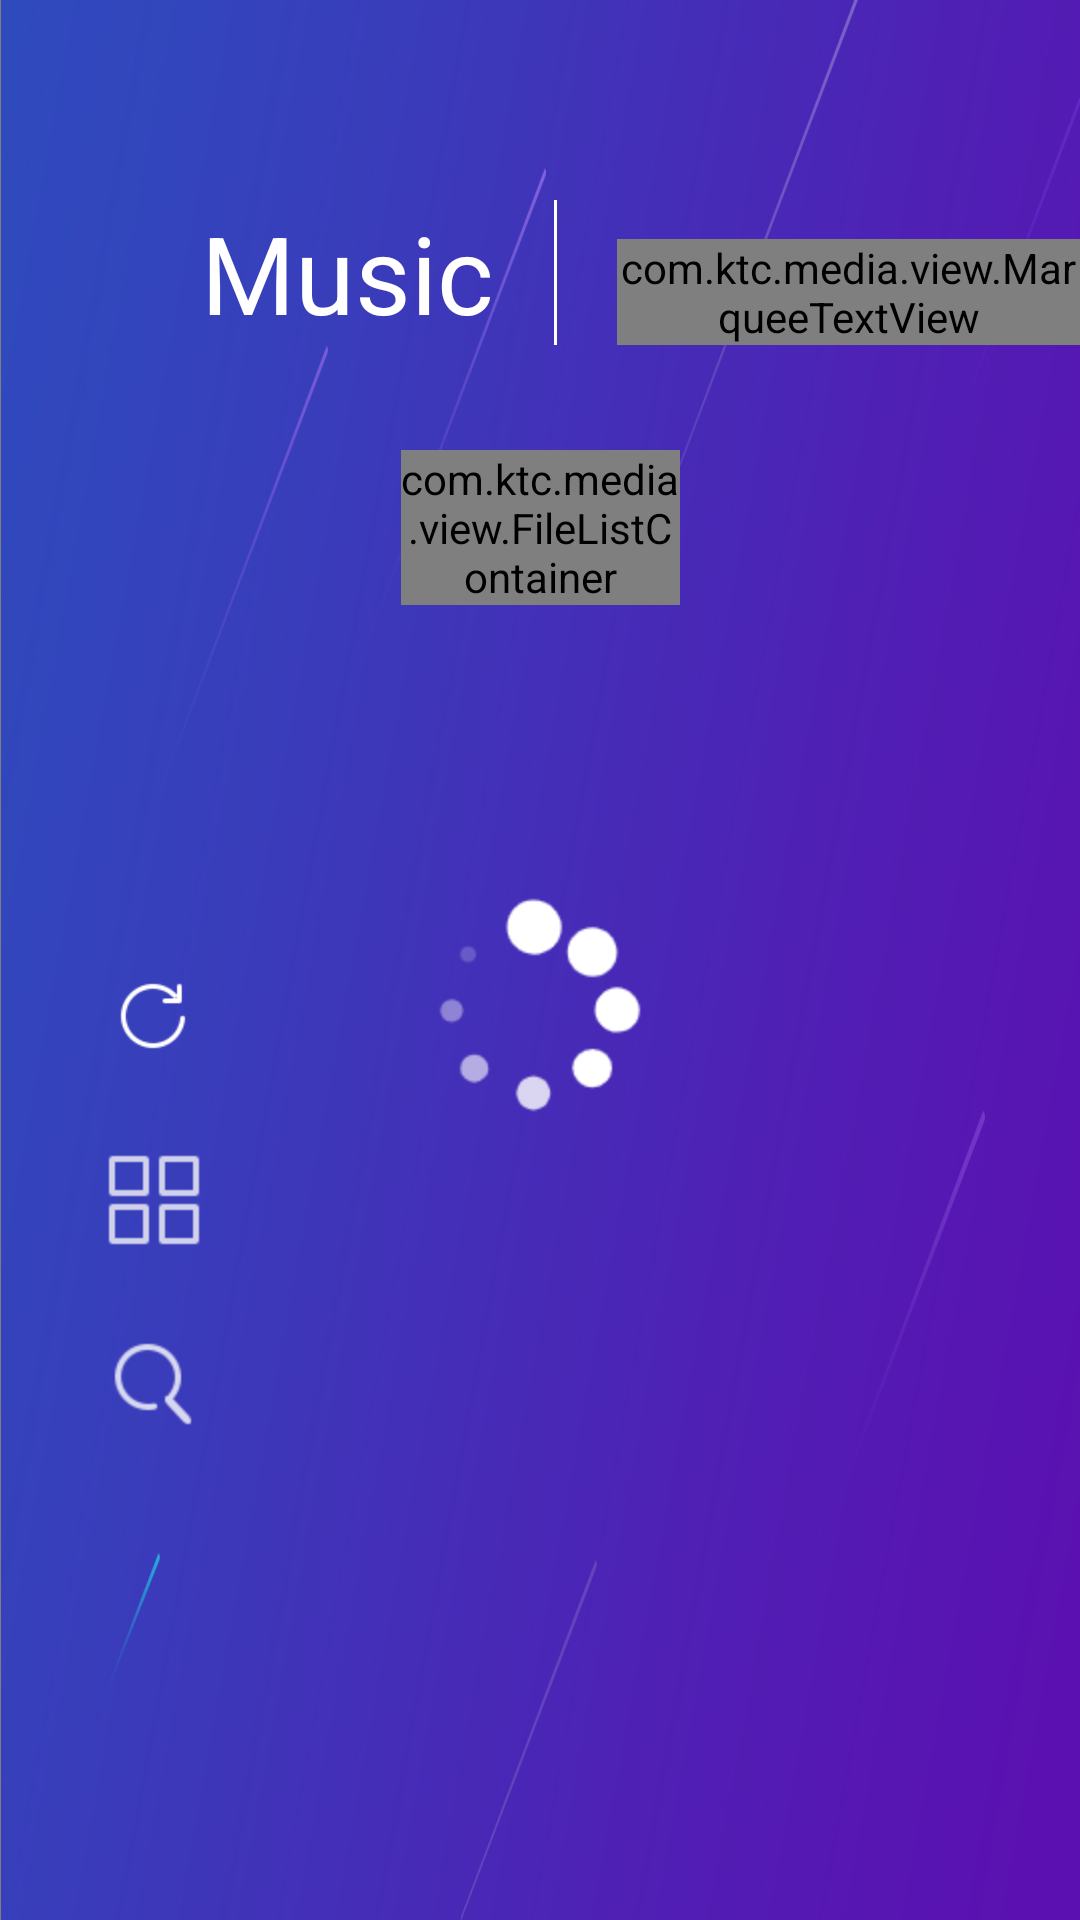

Named icons in this screenshot (1080 x 1920) and their centers, [x,y]:
loading: [540,1005]
refresh: [153,1016]
search: [153,1384]
switch grid: [154,1200]
